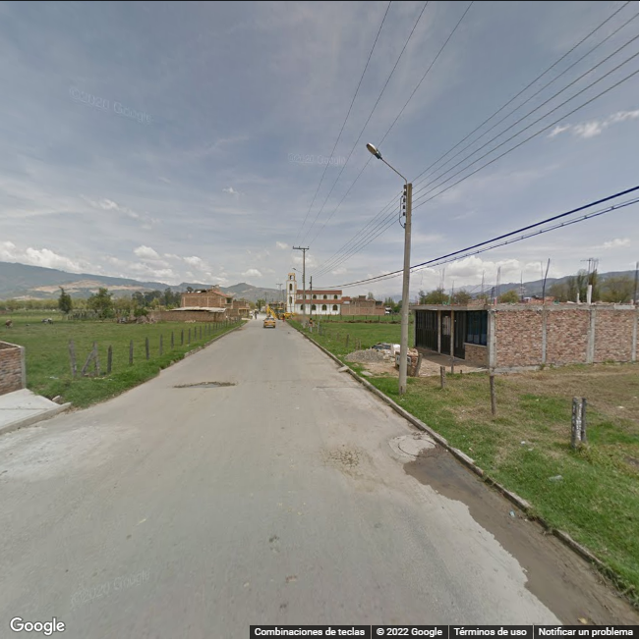D40: (325, 440, 374, 468)
